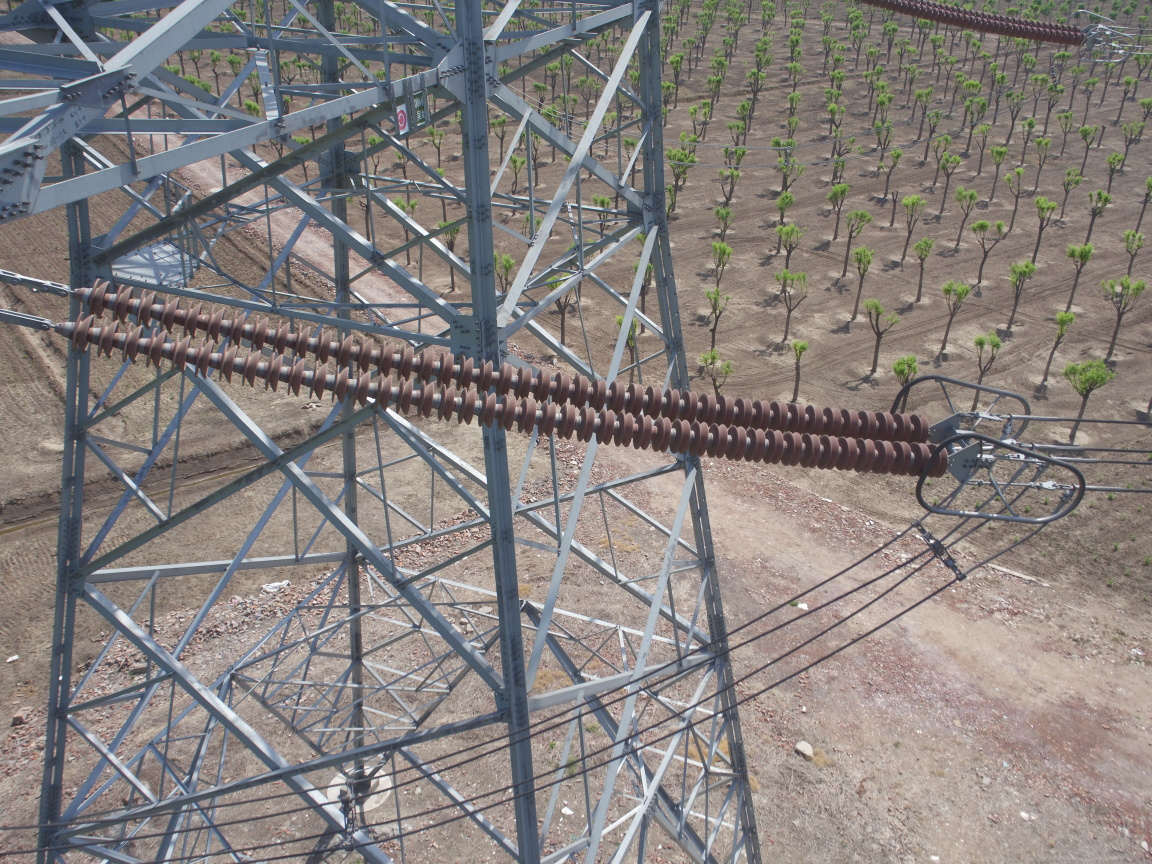insulator: (10, 270, 957, 481)
